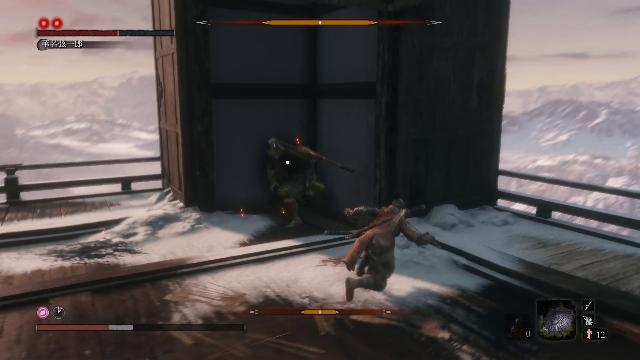sk: (326, 195, 440, 305)
